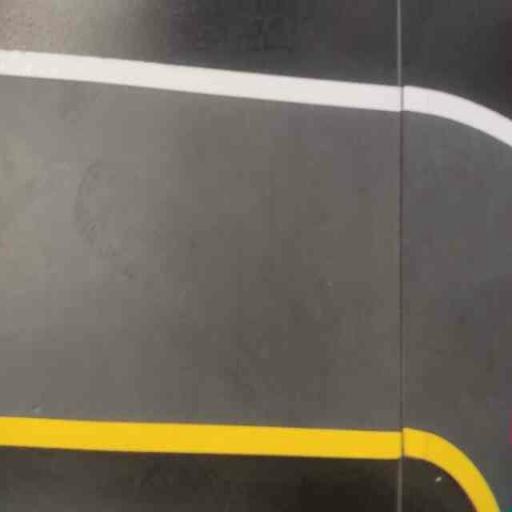left: (274, 51, 508, 511)
